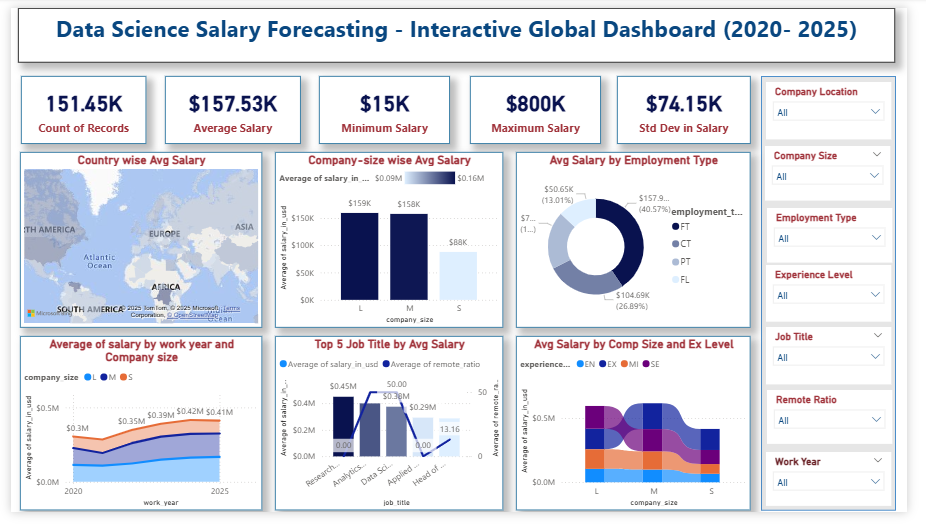

The dashboard page shown, as its layout file describes it:
{"tool":"powerbi","page":{"name":"Page 1","canvas":[1280,720],"ordinal":0},"visuals":[{"type":"textbox","box":[10.6,0,1253.4,78.4],"z":0},{"type":"card","fields":{"Values":["CountNonNull(salaries.Index.1)"]},"box":[14.6,97,179.4,97],"z":1000},{"type":"card","fields":{"Values":["Avg(salaries.salary_in_usd)"]},"box":[219.3,97,194.1,97],"z":2000},{"type":"card","fields":{"Values":["Min(salaries.salary_in_usd)"]},"box":[440,97,187.4,97],"z":3000},{"type":"card","fields":{"Values":["Max(salaries.salary_in_usd)"]},"box":[655.3,97,187.4,97],"z":4000},{"type":"card","fields":{"Values":["Sum(salaries.salary_in_usd)"]},"box":[865.3,97,191.4,97],"z":5000},{"type":"shape","box":[1071.3,97,192.7,620.7],"z":6000},{"type":"slicer","fields":{"Values":["salaries.company_location"]},"box":[1078,106.3,179.4,82.4],"z":7000},{"type":"slicer","fields":{"Values":["salaries.company_size"]},"box":[1076.6,196.7,179.4,78.4],"z":8000},{"type":"slicer","fields":{"Values":["salaries.employment_type"]},"box":[1079.3,285.8,179.4,78.4],"z":9000},{"type":"slicer","fields":{"Values":["salaries.experience_level"]},"box":[1078,366.9,179.4,81.1],"z":10000},{"type":"slicer","fields":{"Values":["salaries.job_title"]},"box":[1078,455.9,179.4,82.4],"z":11000},{"type":"slicer","fields":{"Values":["salaries.remote_ratio"]},"box":[1079.3,546.3,179.4,77.1],"z":12000},{"type":"slicer","fields":{"Values":["salaries.work_year"]},"box":[1078,634,179.4,77.1],"z":13000},{"type":"filledMap","title":"Country wise Avg Salary","fields":{"Category":["salaries.company_location"]},"box":[13.3,205.1,345.6,251.2],"z":14000},{"type":"columnChart","title":"Company-size wise Avg Salary","fields":{"Category":["salaries.company_size"],"Y":["Avg(salaries.salary_in_usd)"]},"box":[377.5,205.1,325.6,251.2],"z":15000},{"type":"donutChart","title":"Avg Salary by Employment Type","fields":{"Y":["Avg(salaries.salary_in_usd)"],"Category":["salaries.employment_type"]},"box":[721.7,205.1,335,251.2],"z":16000},{"type":"stackedAreaChart","title":"Average of salary by work year and Company size","fields":{"Category":["salaries.work_year"],"Y":["Avg(salaries.salary_in_usd)"],"Series":["salaries.company_size"]},"box":[13,469,346,249],"z":17000},{"type":"lineClusteredColumnComboChart","title":"Top 5 Job Title by Avg Salary","fields":{"Category":["salaries.job_title"],"Y":["Avg(salaries.salary_in_usd)"],"Y2":["Avg(salaries.remote_ratio)"]},"box":[377,469,326,249],"z":18000},{"type":"ribbonChart","title":"Avg Salary by Comp Size and Ex Level","fields":{"Category":["salaries.company_size"],"Y":["Avg(salaries.salary_in_usd)"],"Series":["salaries.experience_level"]},"box":[722,469,335,249],"z":18001}]}

Visuals, with their boxes in screenshot pixels (x1, y1, x2, y2), scaled from the page's 1280x720 canvas onto the 926x524 screenshot:
textbox: (x1=8, y1=0, x2=914, y2=57)
card - CountNonNull(salaries.Index.1): (x1=11, y1=71, x2=140, y2=141)
card - Avg(salaries.salary_in_usd): (x1=159, y1=71, x2=299, y2=141)
card - Min(salaries.salary_in_usd): (x1=318, y1=71, x2=454, y2=141)
card - Max(salaries.salary_in_usd): (x1=474, y1=71, x2=610, y2=141)
card - Sum(salaries.salary_in_usd): (x1=626, y1=71, x2=764, y2=141)
shape: (x1=775, y1=71, x2=914, y2=522)
slicer - salaries.company_location: (x1=780, y1=77, x2=910, y2=137)
slicer - salaries.company_size: (x1=779, y1=143, x2=909, y2=200)
slicer - salaries.employment_type: (x1=781, y1=208, x2=911, y2=265)
slicer - salaries.experience_level: (x1=780, y1=267, x2=910, y2=326)
slicer - salaries.job_title: (x1=780, y1=332, x2=910, y2=392)
slicer - salaries.remote_ratio: (x1=781, y1=398, x2=911, y2=454)
slicer - salaries.work_year: (x1=780, y1=461, x2=910, y2=518)
"Country wise Avg Salary" filledMap: (x1=10, y1=149, x2=260, y2=332)
"Company-size wise Avg Salary" columnChart: (x1=273, y1=149, x2=509, y2=332)
"Avg Salary by Employment Type" donutChart: (x1=522, y1=149, x2=764, y2=332)
"Average of salary by work year and Company size" stackedAreaChart: (x1=9, y1=341, x2=260, y2=523)
"Top 5 Job Title by Avg Salary" lineClusteredColumnComboChart: (x1=273, y1=341, x2=509, y2=523)
"Avg Salary by Comp Size and Ex Level" ribbonChart: (x1=522, y1=341, x2=765, y2=523)
